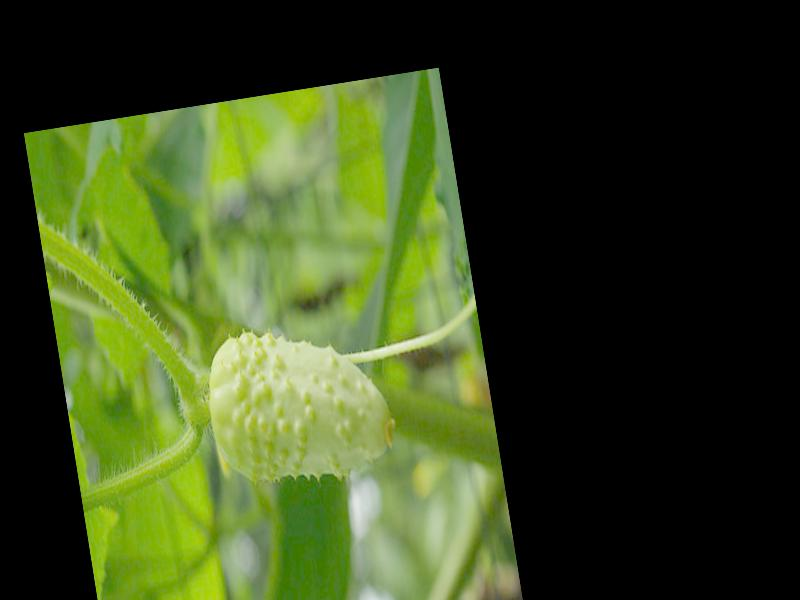Cucumber: (197, 310, 403, 492)
